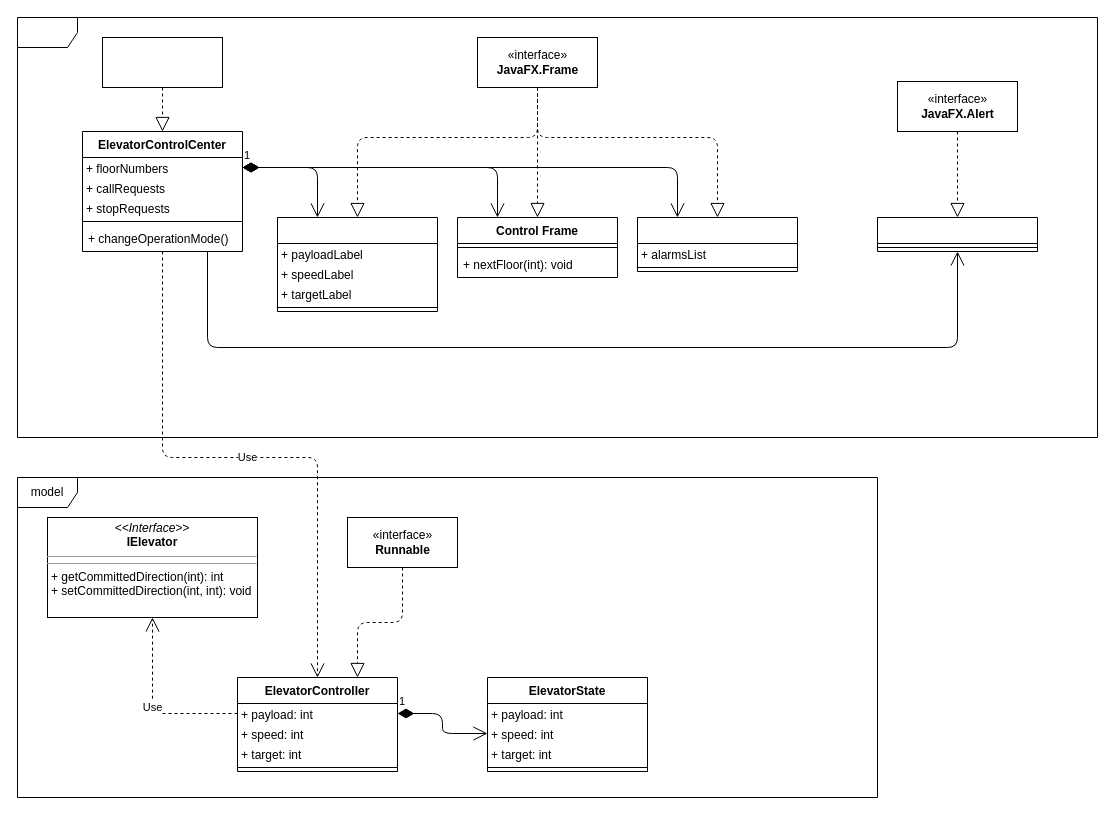
The diagram is 1115 pixels wide and 815 high, and some of its shapes have lost their labels. The box of each missing label's shape, as (x1, y1, x2, y2) in pixels:
AlarmsFrame: (636, 216, 798, 272)
ChangeOperationMode: (876, 216, 1038, 252)
gui: (16, 16, 1098, 438)
StatusFrame: (276, 216, 438, 312)
«interface» JavaFX.Application: (102, 36, 222, 88)
